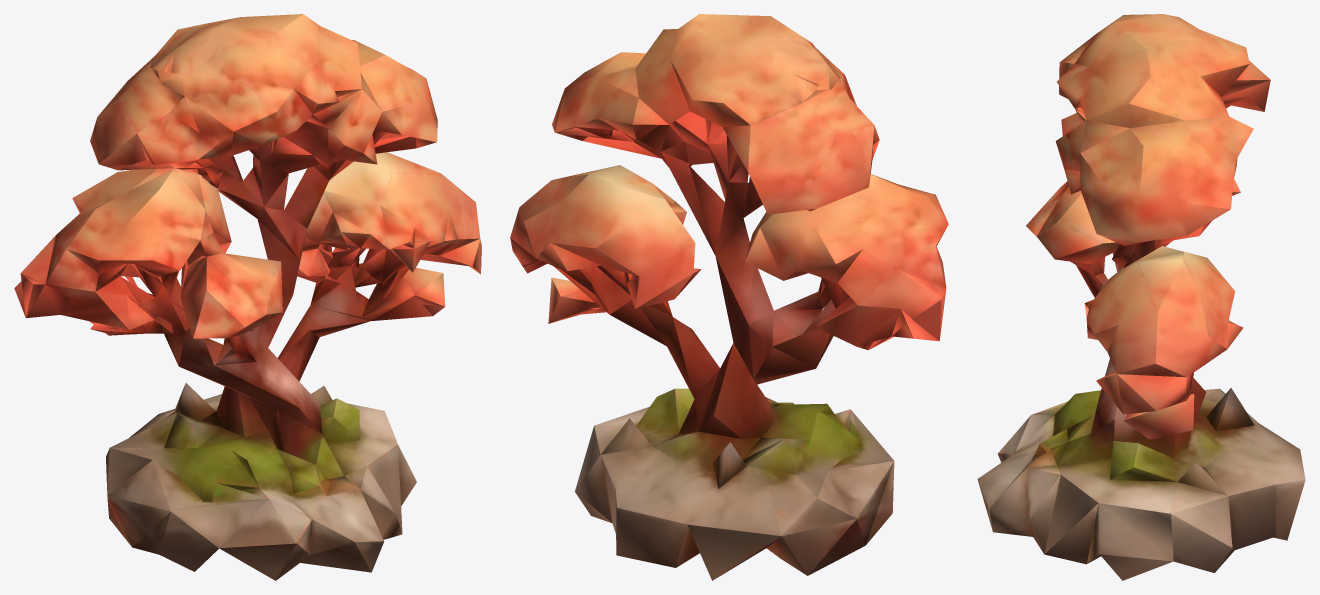
The model's file is coralBranch.glb.
The picture shows the model from 3 angles, left to right: view 1: azimuth 30°, elevation 25°; view 2: azimuth 150°, elevation 25°; view 3: azimuth 270°, elevation 25°; orthographic projection. The views are drawn at different scales.
Parts seen in each view (by area): view 1: model; view 2: model; view 3: model.
Part boxes in pixels (box(x1,y1,x2,y2)): model: box(14, 14, 481, 580); model: box(510, 14, 948, 580); model: box(977, 14, 1305, 580).
Size of the model in its own units: 1.76 by 1.89 by 1.15.
Materials: 1 (1 with a texture image).
